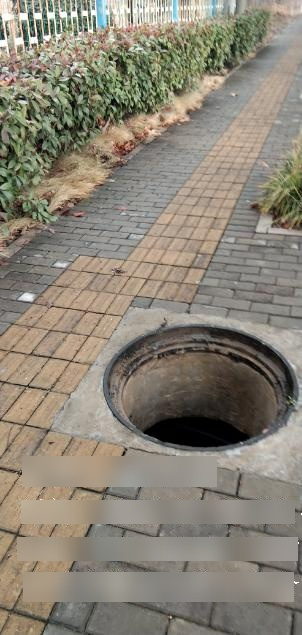lose: (104, 321, 302, 453)
